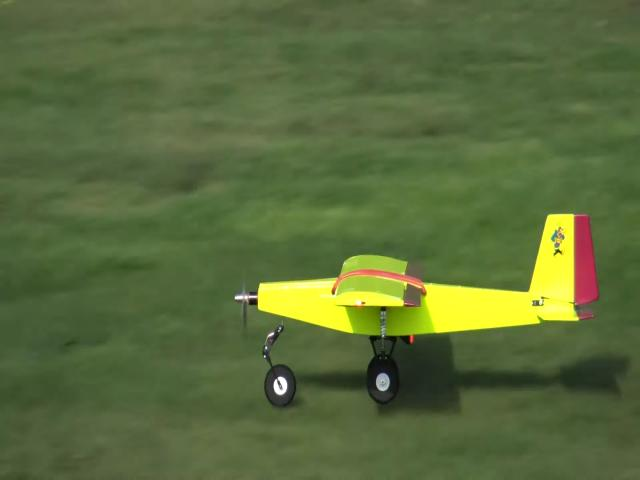plane: (234, 212, 600, 406)
